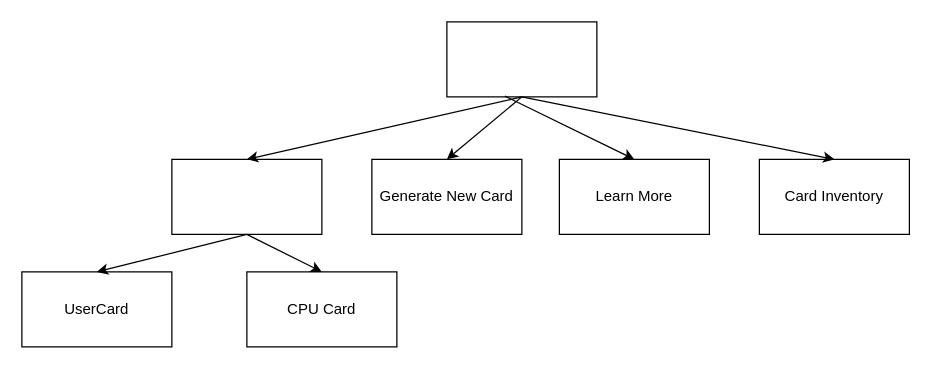
Some shapes in this 931 by 369 pixel diagram are drawn without their labels. Here are the shapes that lost their labels. From the top down, the centre of each, then its label:
(x=521, y=59): App
(x=246, y=196): Home
